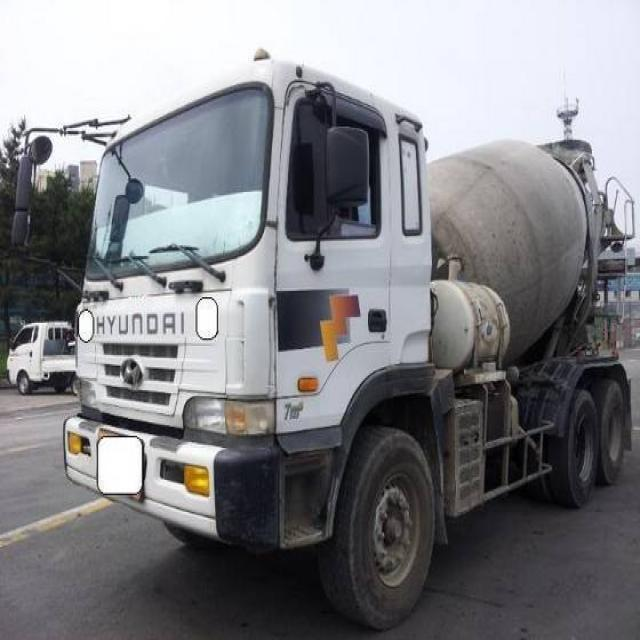Mixer Truck: (63, 60, 635, 627)
